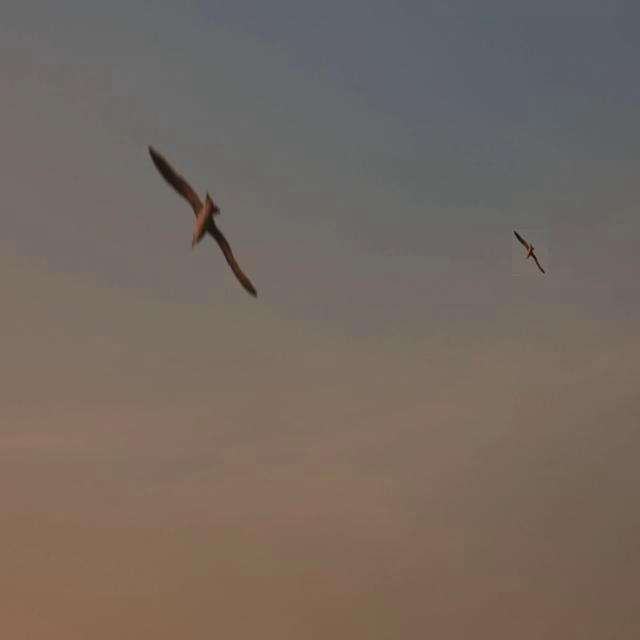bird: (145, 138, 264, 301), (509, 226, 548, 278)
